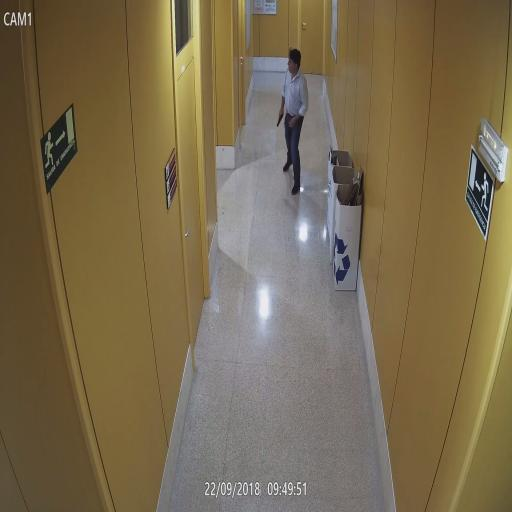Handgun: (276, 106, 284, 127)
